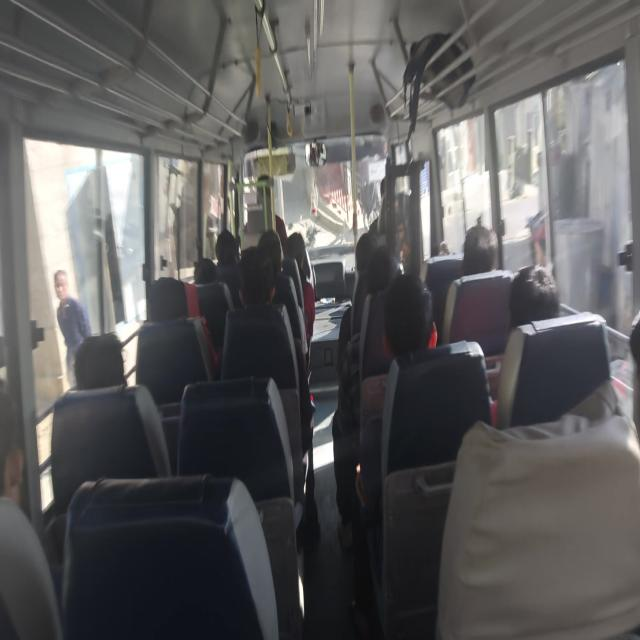person: (381, 276, 452, 392), (66, 338, 142, 426), (513, 253, 575, 339), (0, 379, 31, 541), (136, 279, 192, 339), (459, 214, 502, 278), (283, 230, 318, 276), (369, 256, 407, 297), (260, 231, 289, 283), (344, 231, 382, 265), (238, 262, 264, 308), (192, 248, 218, 280), (218, 227, 242, 261), (430, 232, 458, 260)
